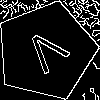V: (20, 26, 77, 83)
